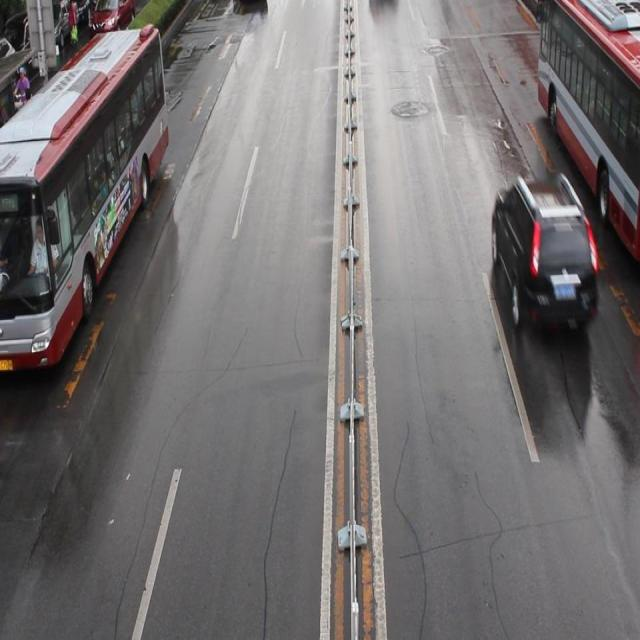car: (492, 178, 597, 330), (90, 1, 135, 38)
van: (0, 25, 168, 374), (534, 1, 640, 256)
